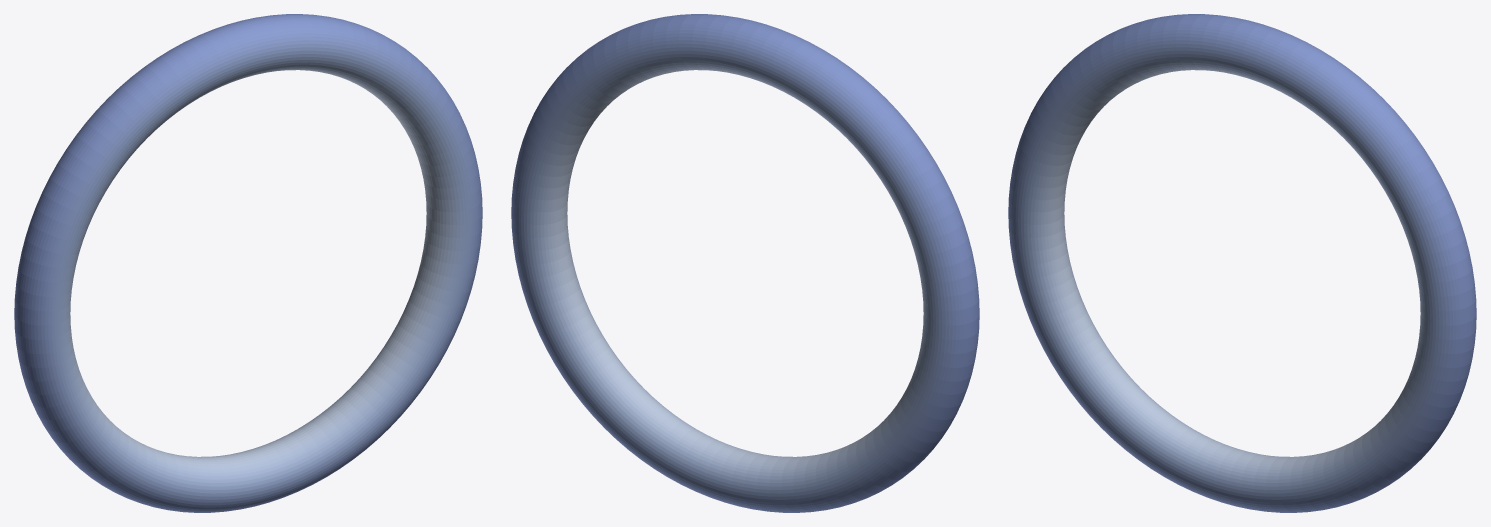
The picture shows the model from 3 angles, left to right: view 1: azimuth 30°, elevation 25°; view 2: azimuth 150°, elevation 25°; view 3: azimuth 330°, elevation 25°; orthographic projection.
Parts seen in each view (by area): view 1: world; view 2: world; view 3: world.
Boxes of the visible parts, x1,y1,x2,y2 form: world: (14,14,482,512); world: (511,14,979,512); world: (1008,14,1476,512).
Size of the model in its own units: 29.07 by 29.07 by 3.06.
